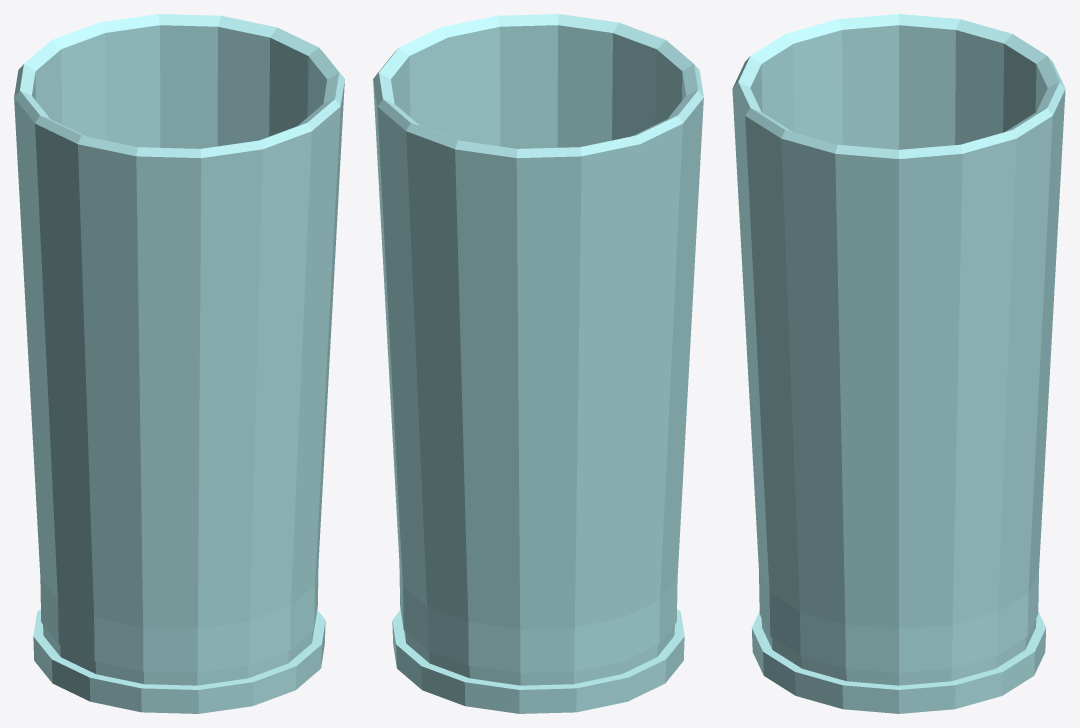
The model's file is cup.fbx.
The picture shows the model from 3 angles, left to right: view 1: azimuth 30°, elevation 25°; view 2: azimuth 150°, elevation 25°; view 3: azimuth 270°, elevation 25°; orthographic projection.
Visible parts, largest first — view 1: Circle; view 2: Circle; view 3: Circle.
Part boxes in pixels (left/top/right/bottom): Circle: left=14, top=14, right=344, bottom=713; Circle: left=373, top=14, right=703, bottom=713; Circle: left=732, top=14, right=1065, bottom=713.
Bounding box in the file's own units: 228 × 430 × 228.
